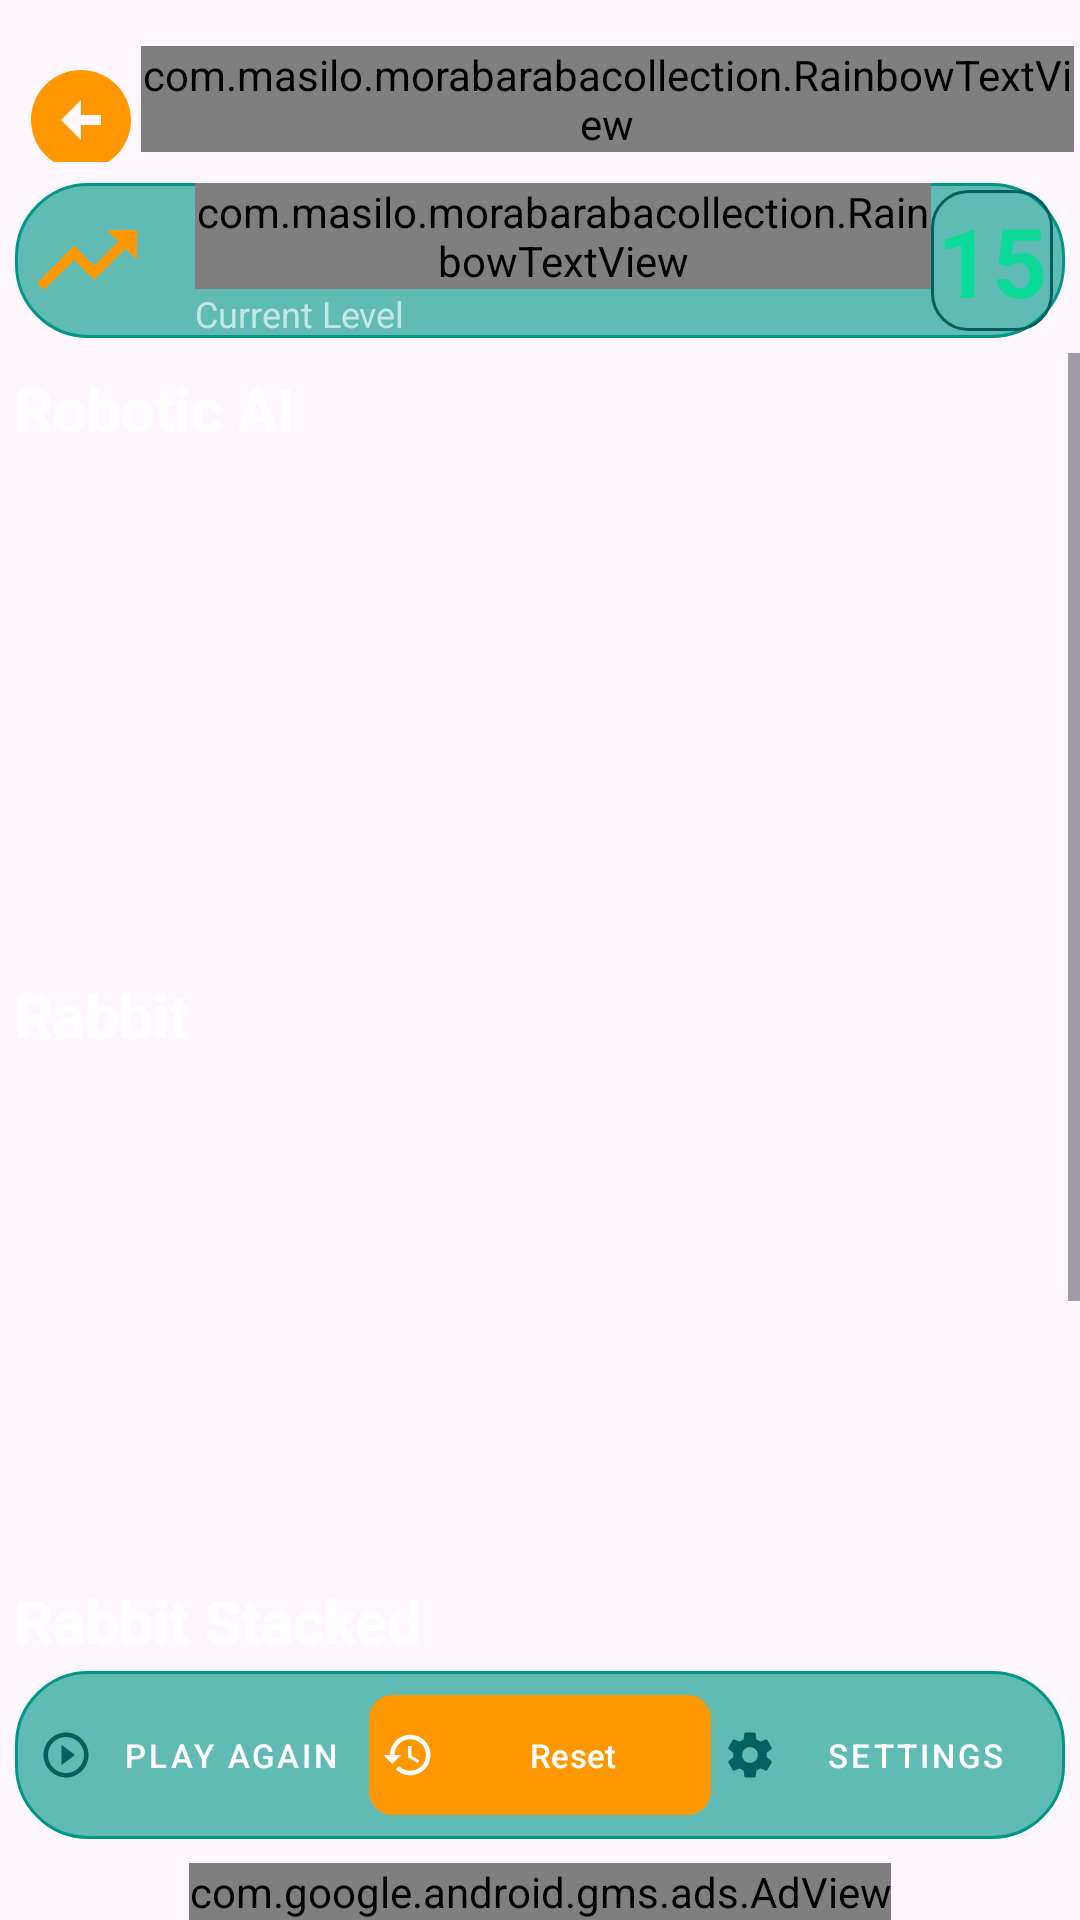

Where icons sit on this 1080x1920 app screen, as (x1, y1, x2, y2):
arrowcircle: (31, 70, 131, 162)
trending up: (37, 230, 137, 290)
